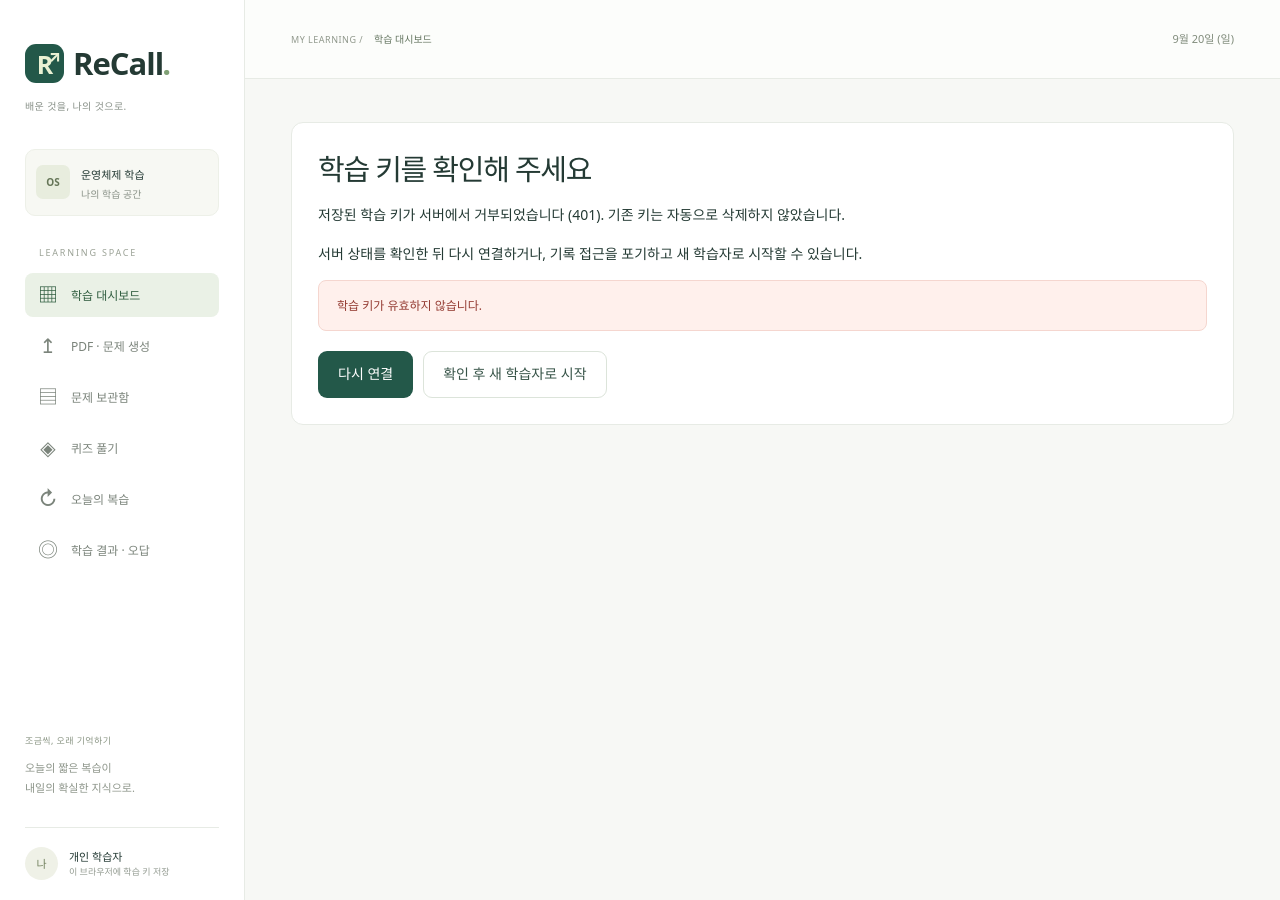
it: ReCall real API workflows › preserves an invalid learner token until a new learner is explicitly confirmed
The width and height of the screenshot is (1280, 900).
Expected: the heading "학습 키를 확인해 주세요" is shown, 318,149 -> 591,188
Click the button "확인 후 새 학습자로 시작" at coordinates (515, 374), box 423,351 -> 607,398
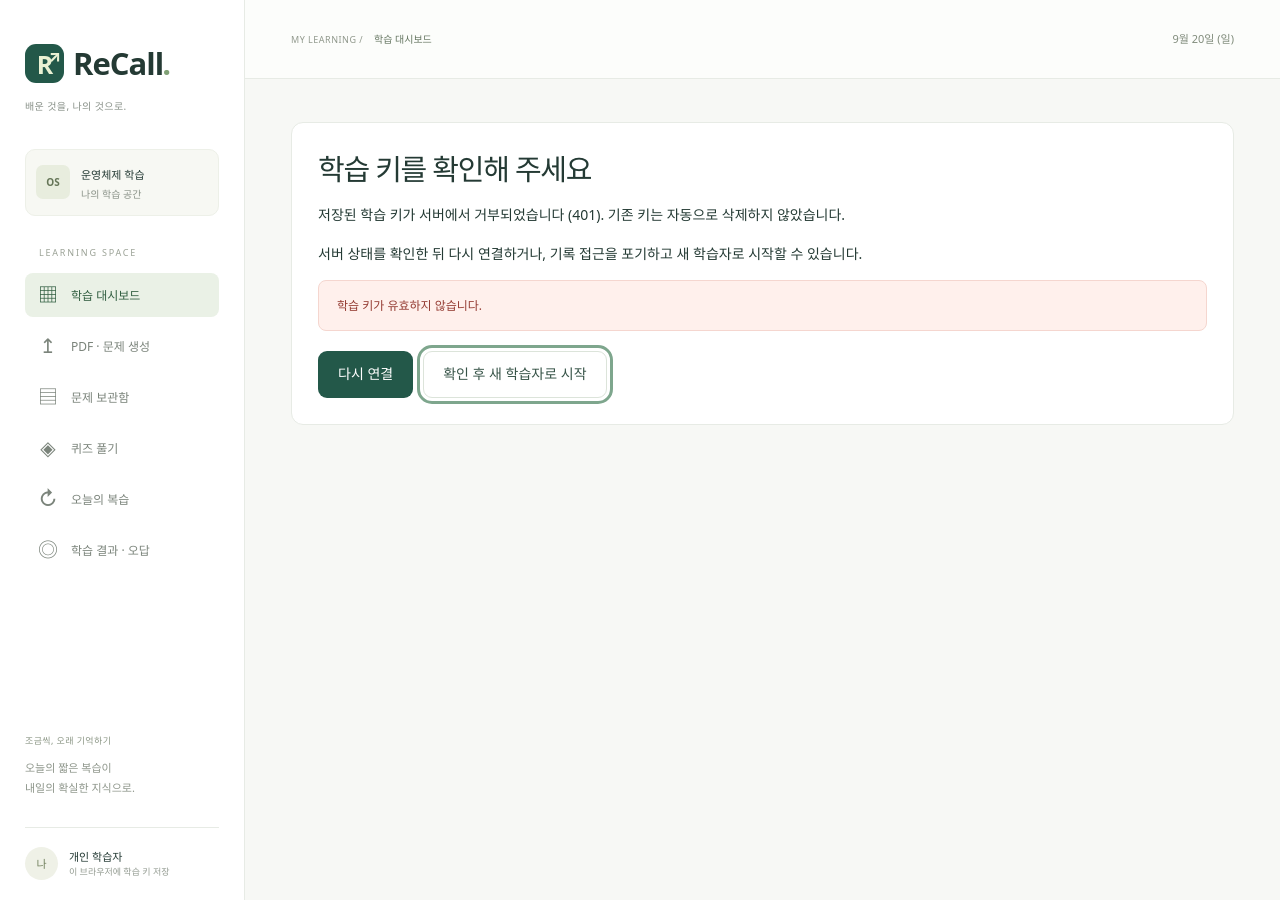
Click the button "확인 후 새 학습자로 시작" at coordinates (515, 374), box 423,351 -> 607,398
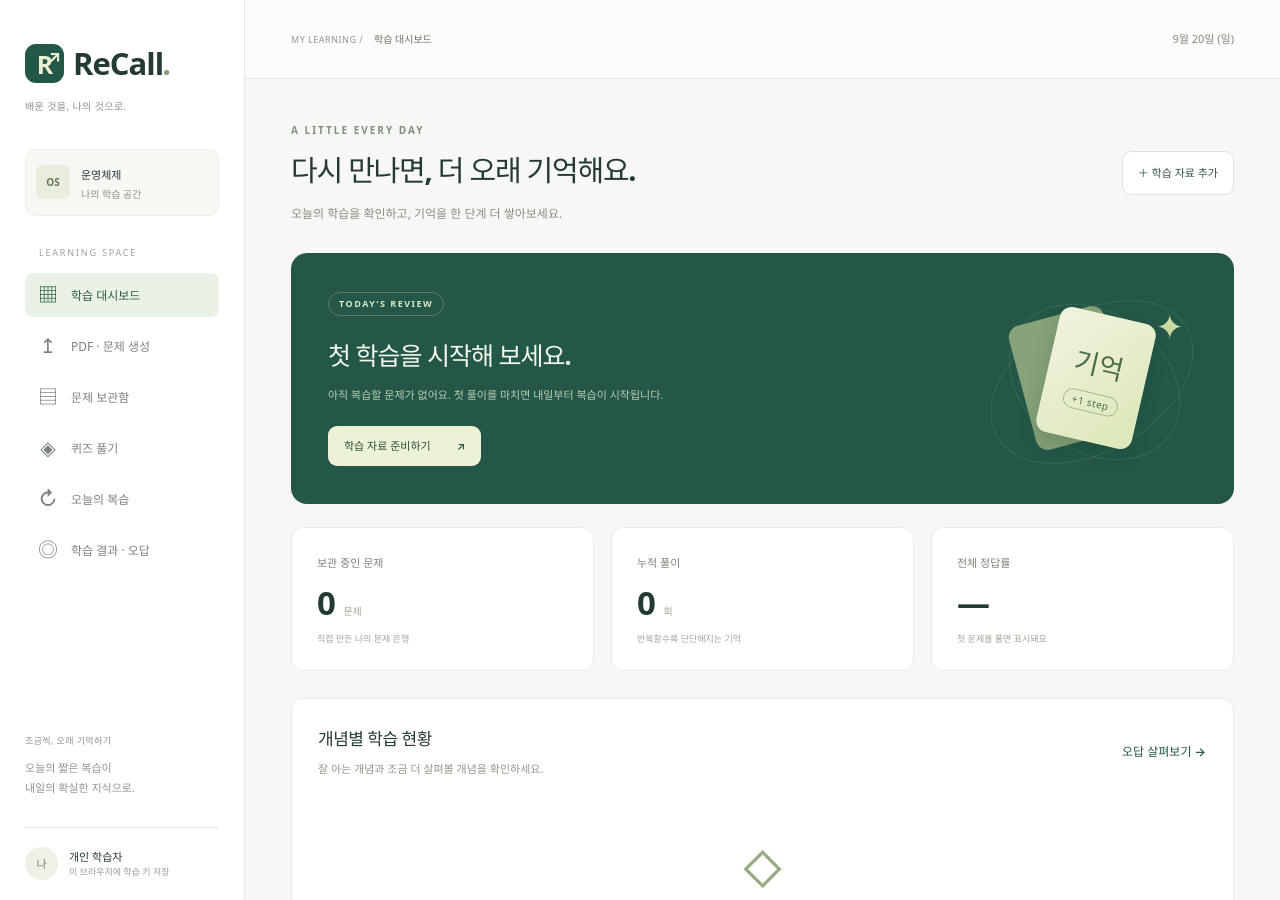
Result: the text "보관 중인 문제" is shown at 317,555 -> 384,570
